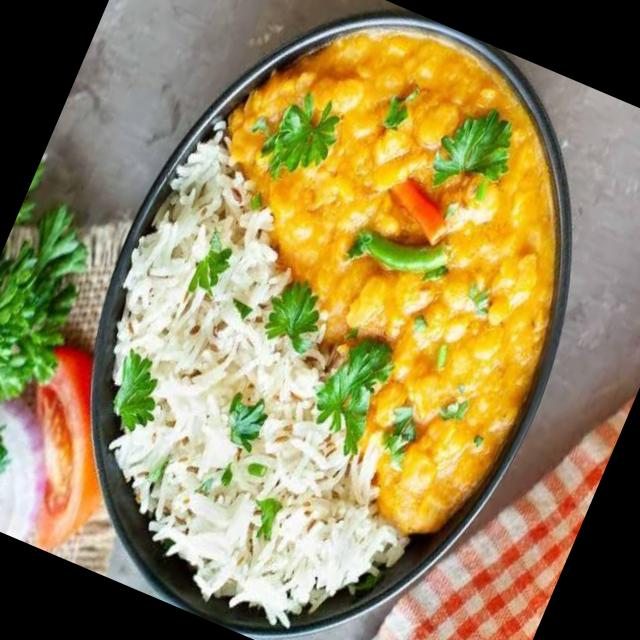dal: (218, 23, 555, 542)
rice: (123, 130, 395, 613)
